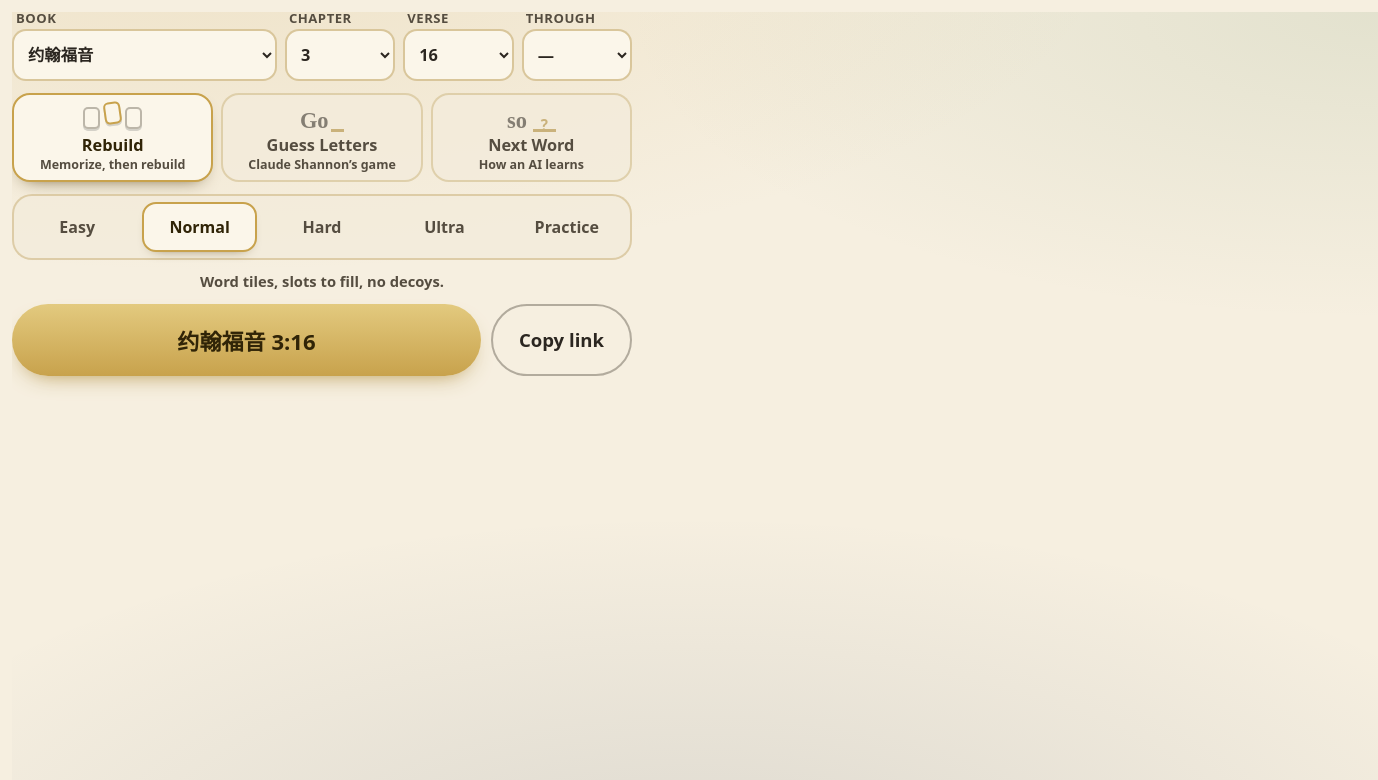
Pick a Verse › shows the link to copy by hand where the clipboard is unavailable
The image size is (1378, 780).
Click the button "Copy link": (562, 340) x1=491 y1=304 x2=632 y2=376
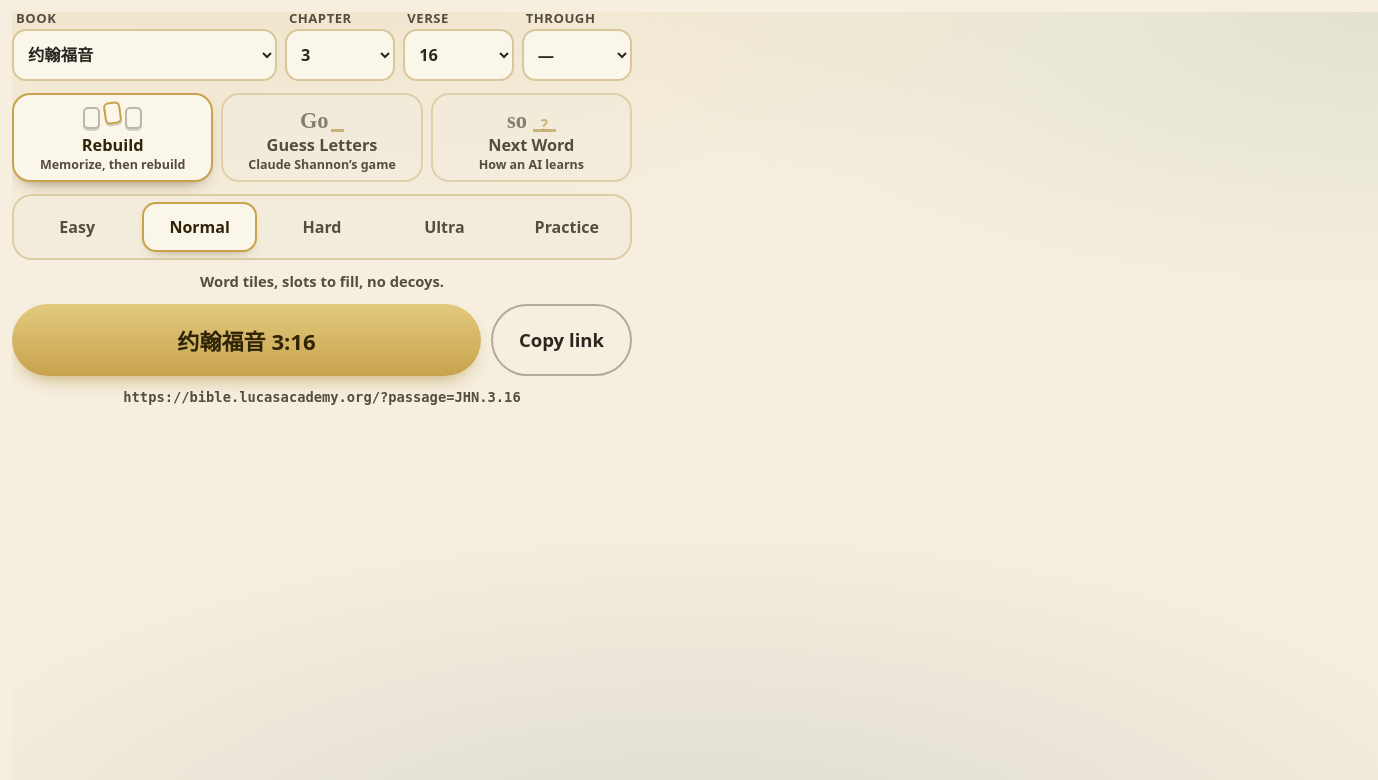
expect the text "https://bible.lucasacademy.org/?passage=JHN.3.16" is shown: met, box x1=123 y1=389 x2=521 y2=405
